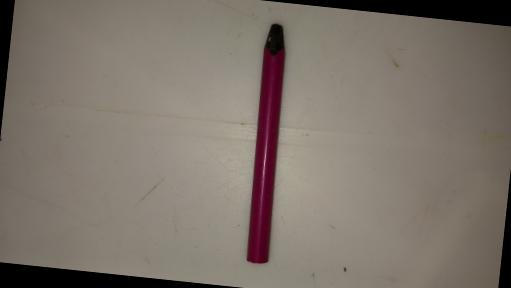Pencil: (244, 22, 294, 264)
